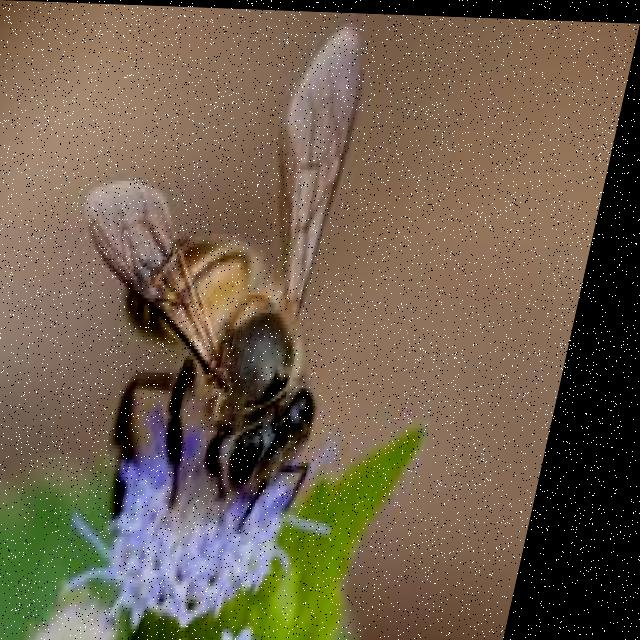Apis-mellifera-scutellata: (16, 3, 492, 567)
